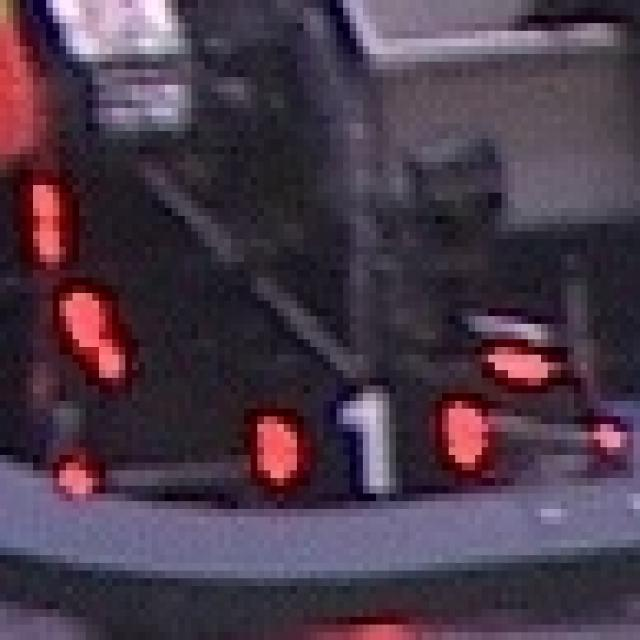R1: (238, 386, 488, 494)
